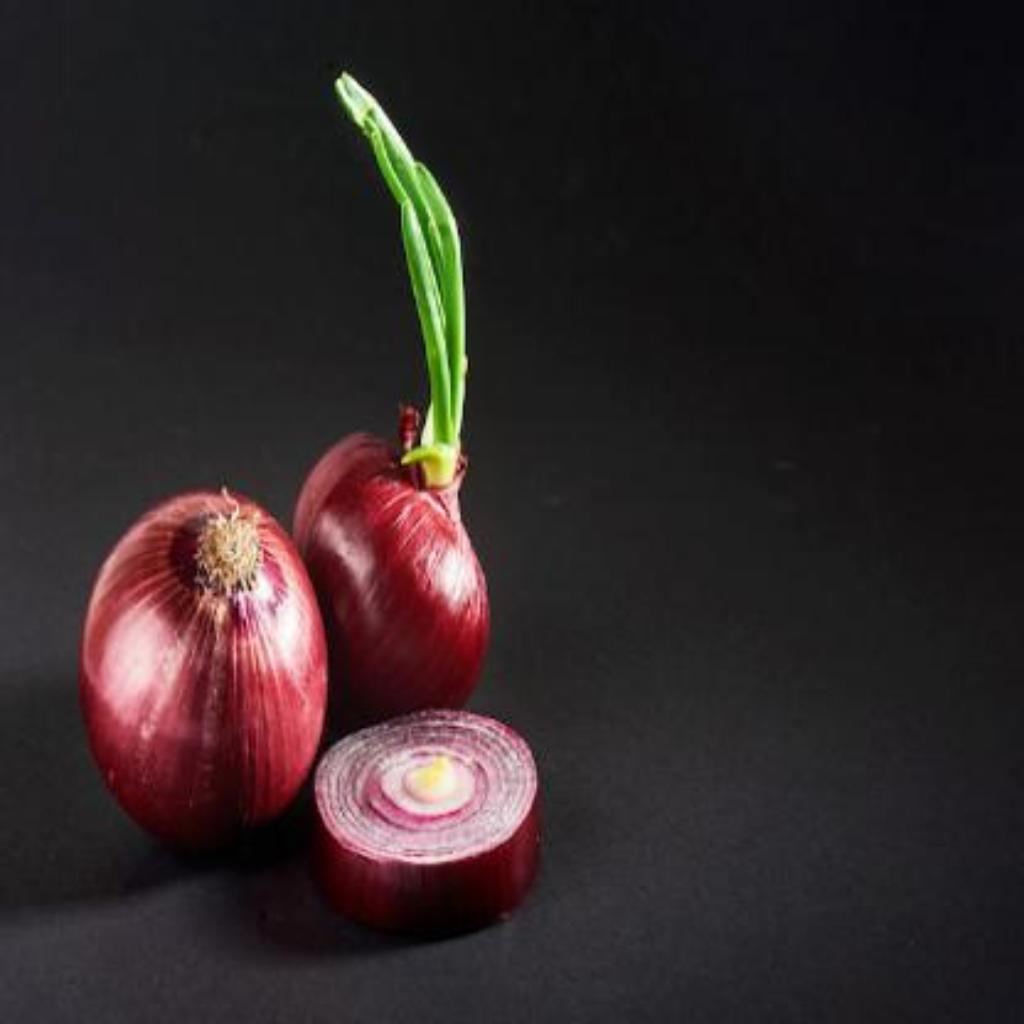Onion: (79, 492, 327, 853), (293, 433, 490, 735)
